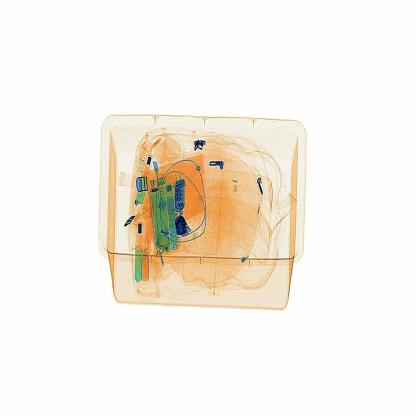scissors: (170, 208, 201, 245)
